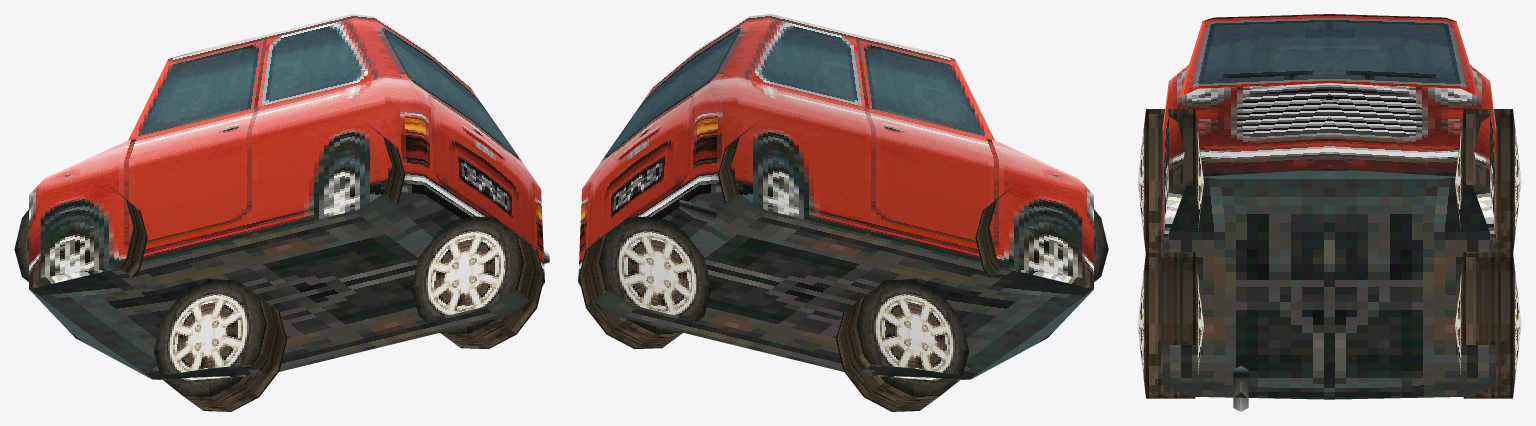
Rendered from ps2_save-icons_topgeardaredevil.glb.
3 views of the same model, side by side, from view 1: azimuth 30°, elevation 25°; view 2: azimuth 150°, elevation 25°; view 3: azimuth 270°, elevation 25° (orthographic). The views are drawn at different scales.
Visible parts, largest first — view 1: list.ico; view 2: list.ico; view 3: list.ico.
Part boxes in pixels (x1,y1,x2,y2): list.ico: (14, 14, 549, 411); list.ico: (578, 14, 1108, 411); list.ico: (1137, 14, 1521, 411).
Size of the model in its own units: 5 by 2.72 by 3.38.
1 material, 1 textured.
